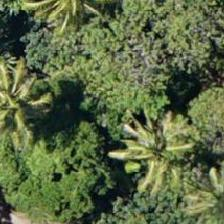coconut_tree: (107, 119, 197, 209), (0, 46, 45, 136)
